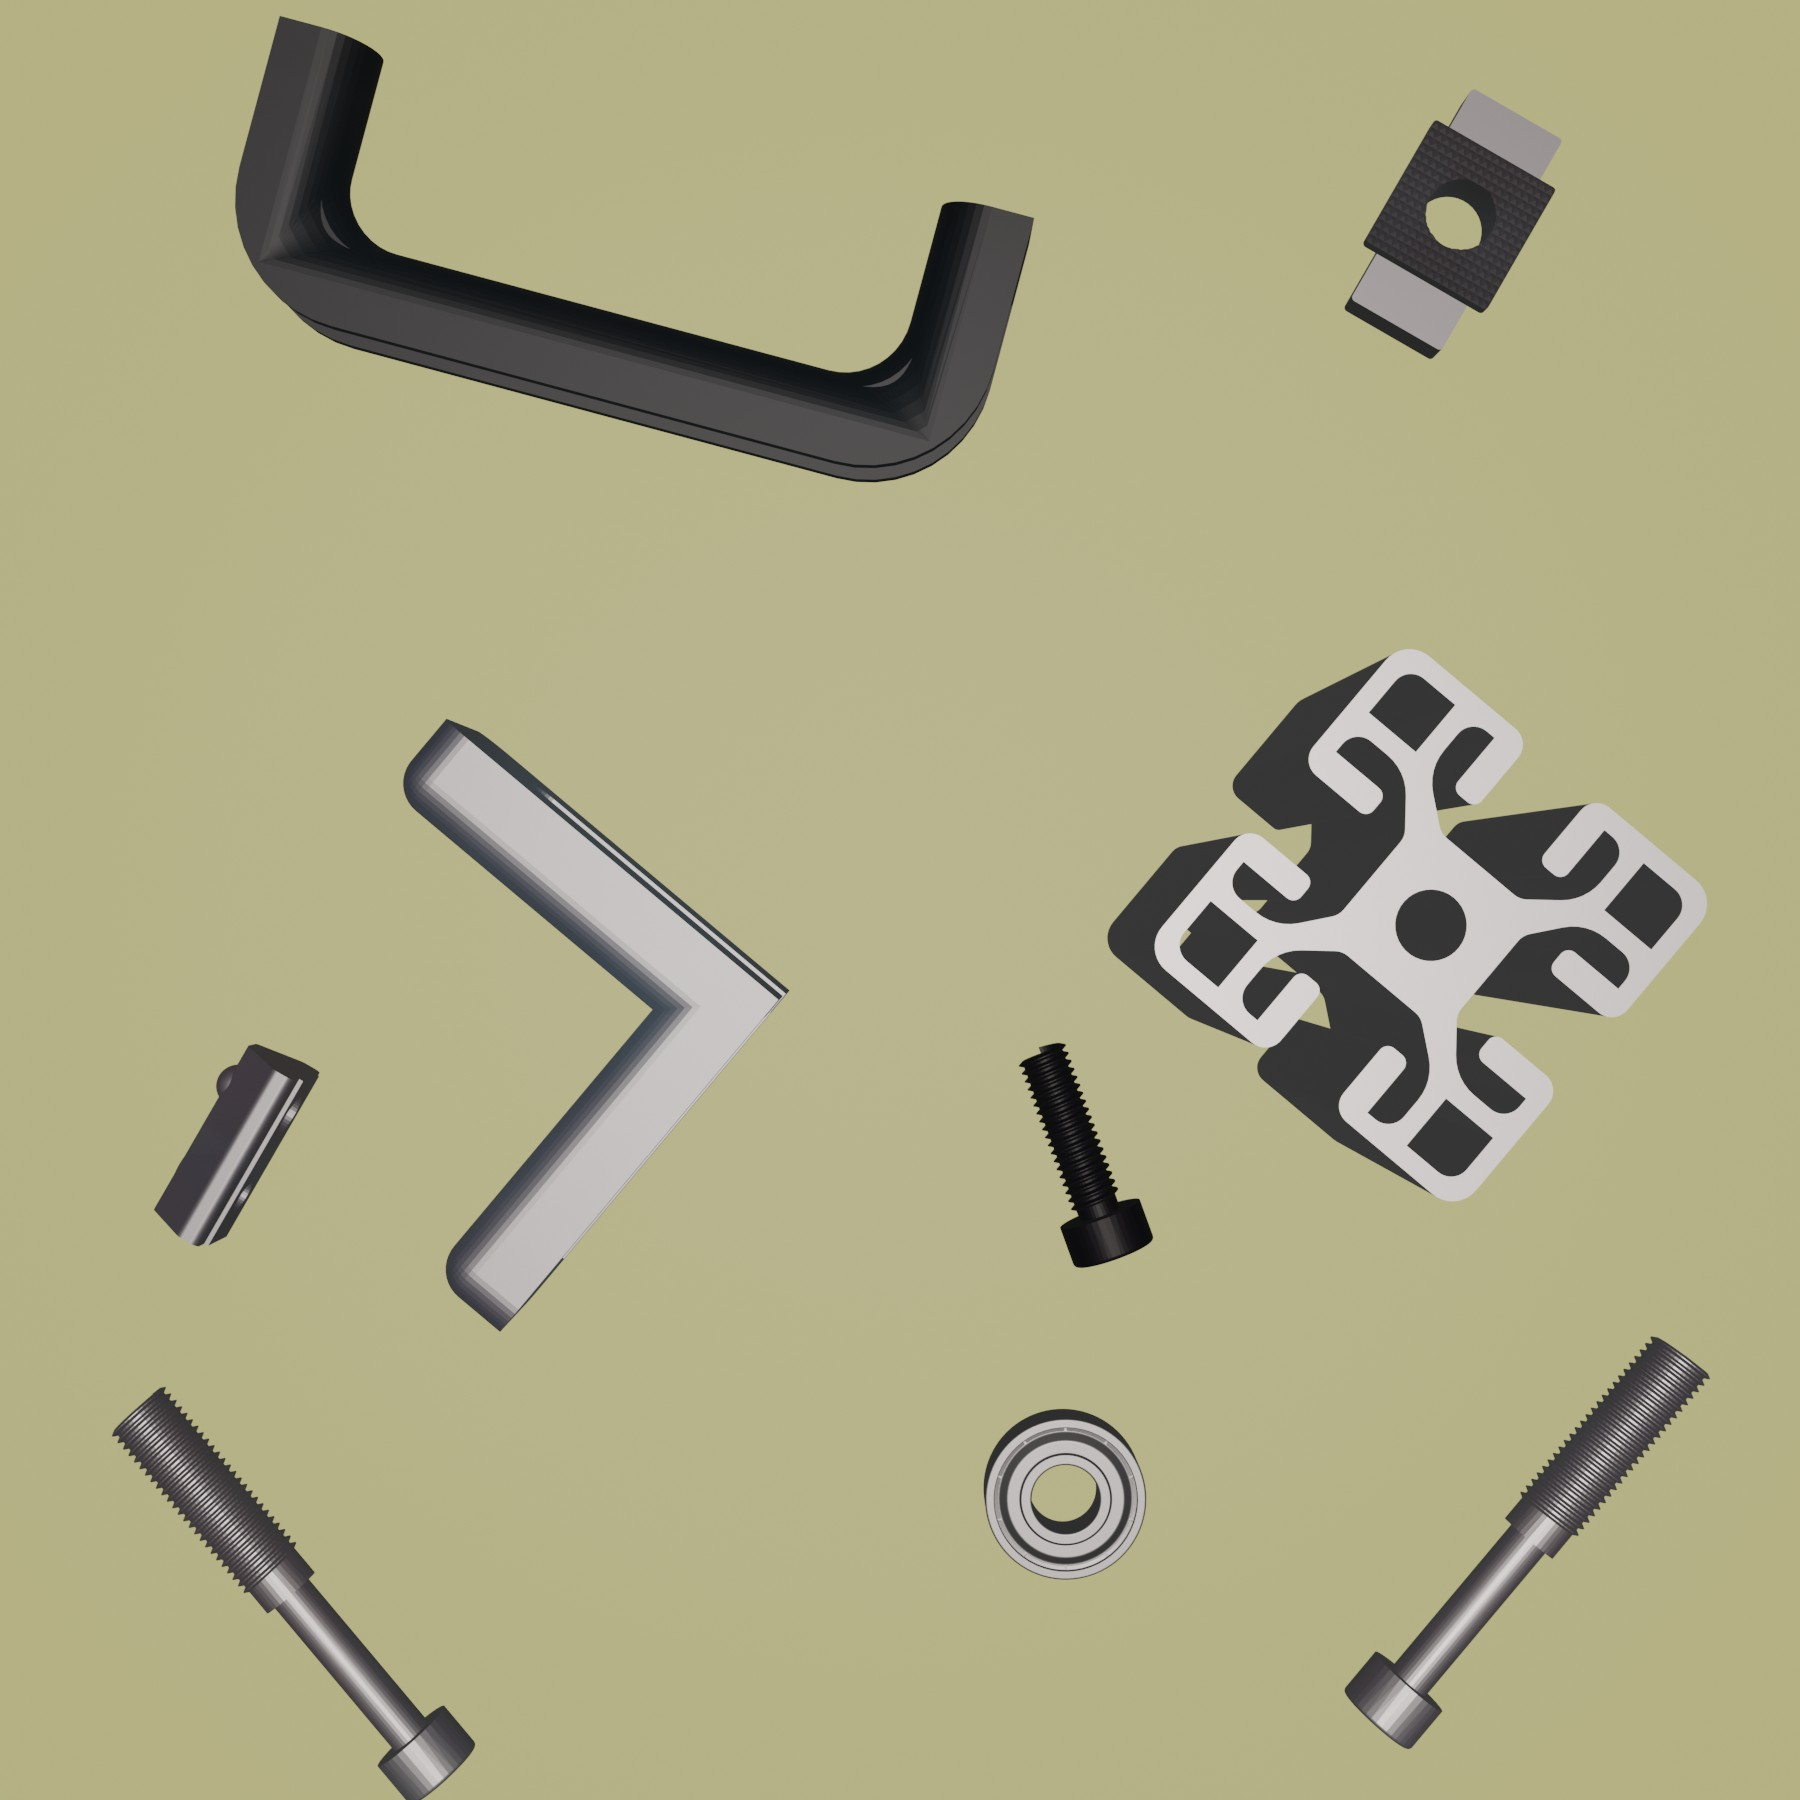Aluminium Extension: (1104, 646, 1713, 1207)
Ball Bearing: (979, 1404, 1151, 1584)
Multiwinkel: (401, 715, 793, 1337)
Pull Handle: (232, 12, 1037, 486)
Shoulder Socket Head Cap Screw: (1342, 1330, 1713, 1752), (109, 1385, 480, 1800)
Socket Head Cap Screw: (1017, 1035, 1155, 1273)
T Nut Square: (1342, 84, 1566, 363)
T Spring Nut: (153, 1038, 321, 1251)
